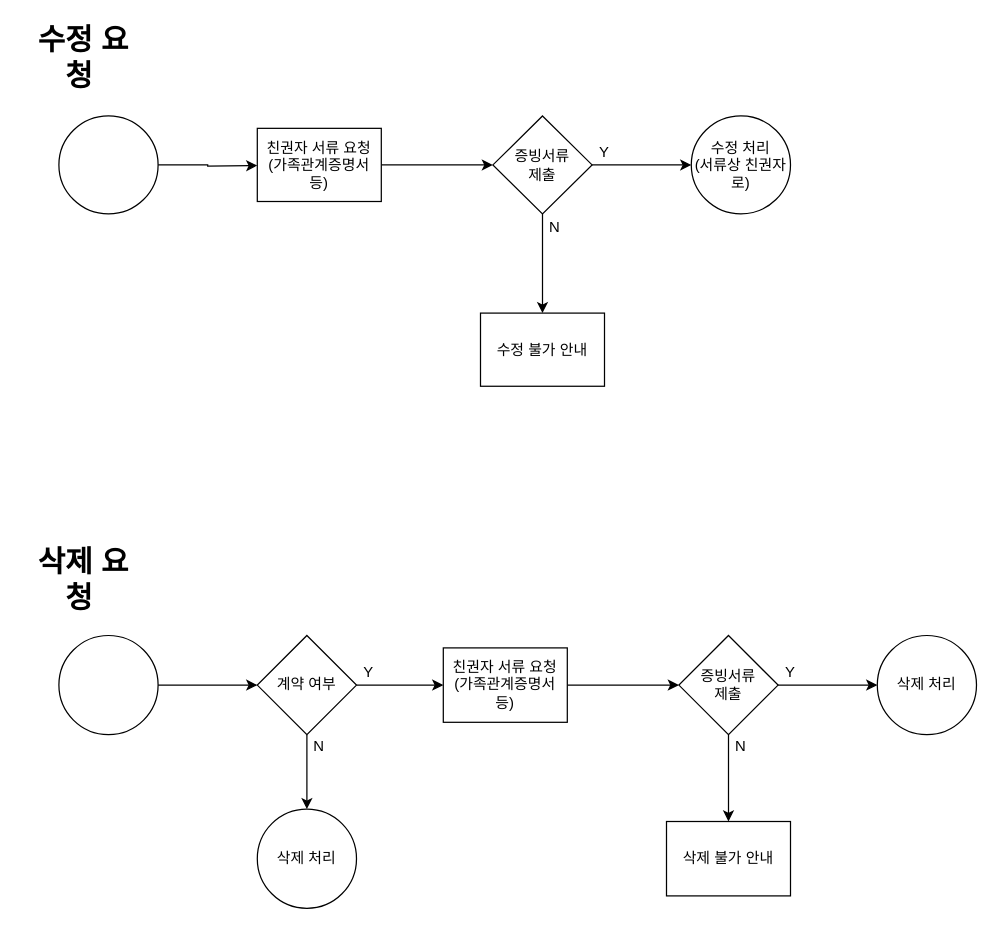
This 998x930 diagram has some shape labels left out. The shapes that lost their labels are listed below. From the top down, each one's centre as x and y in pixels, then its label:
At [108,164]: "친권자 정보 수정 요청".
At [108,684]: "친권자 정보 삭제 요청".
